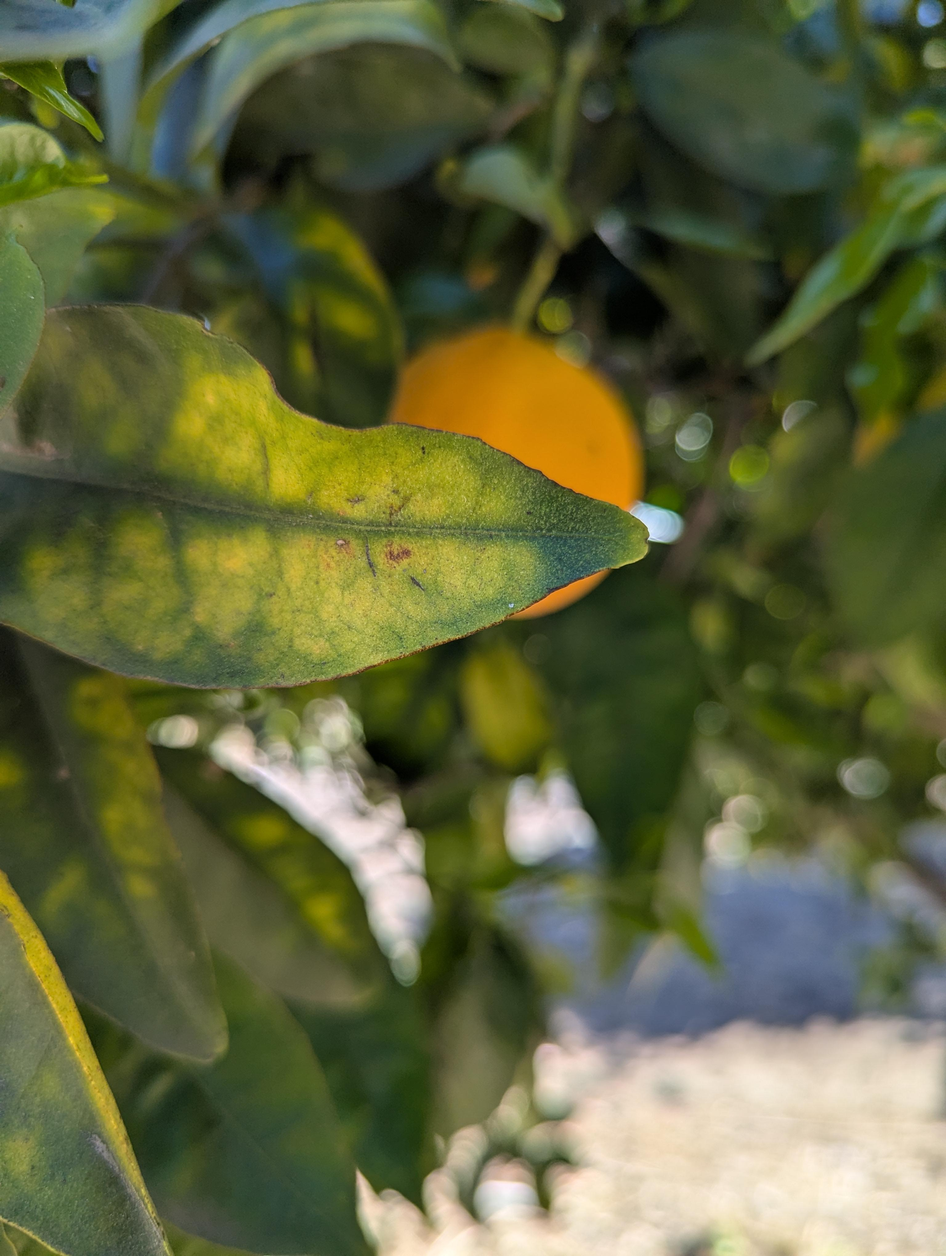orange: (393, 326, 642, 620)
